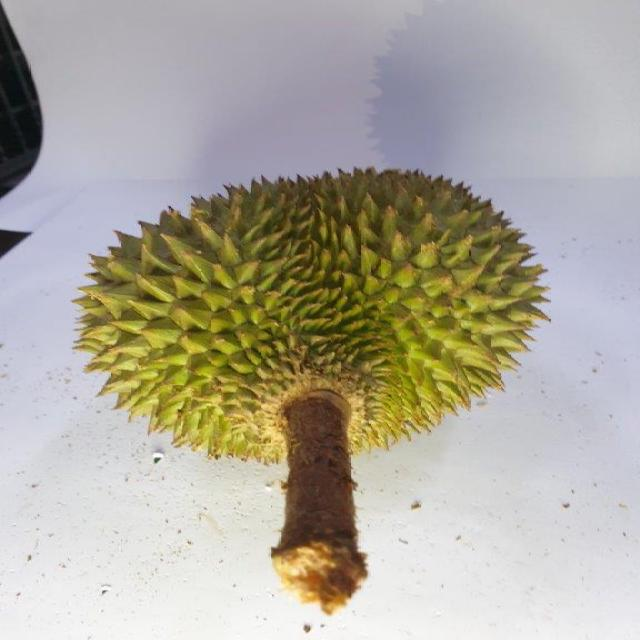immature: (57, 168, 547, 467)
